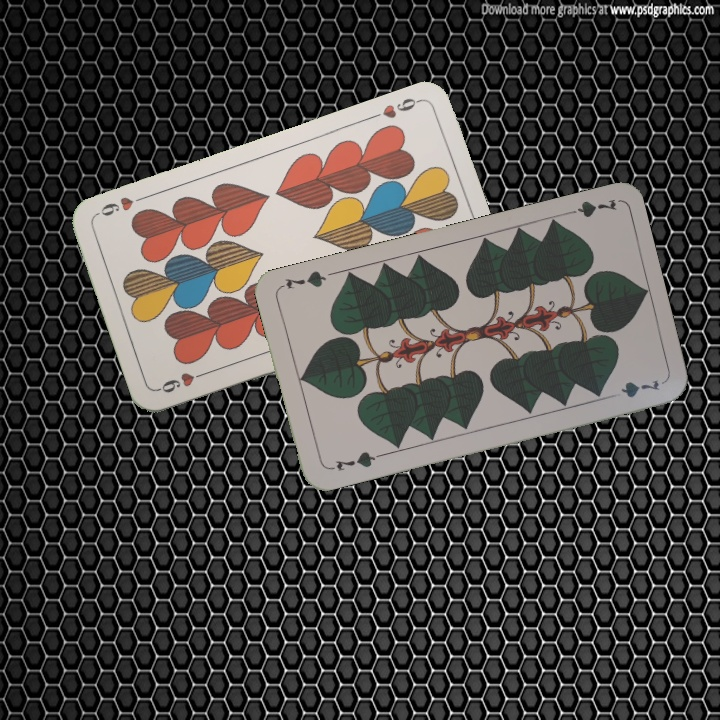G7: (324, 447, 382, 474), (559, 194, 619, 220)
H9: (154, 367, 212, 396), (366, 93, 424, 122)
